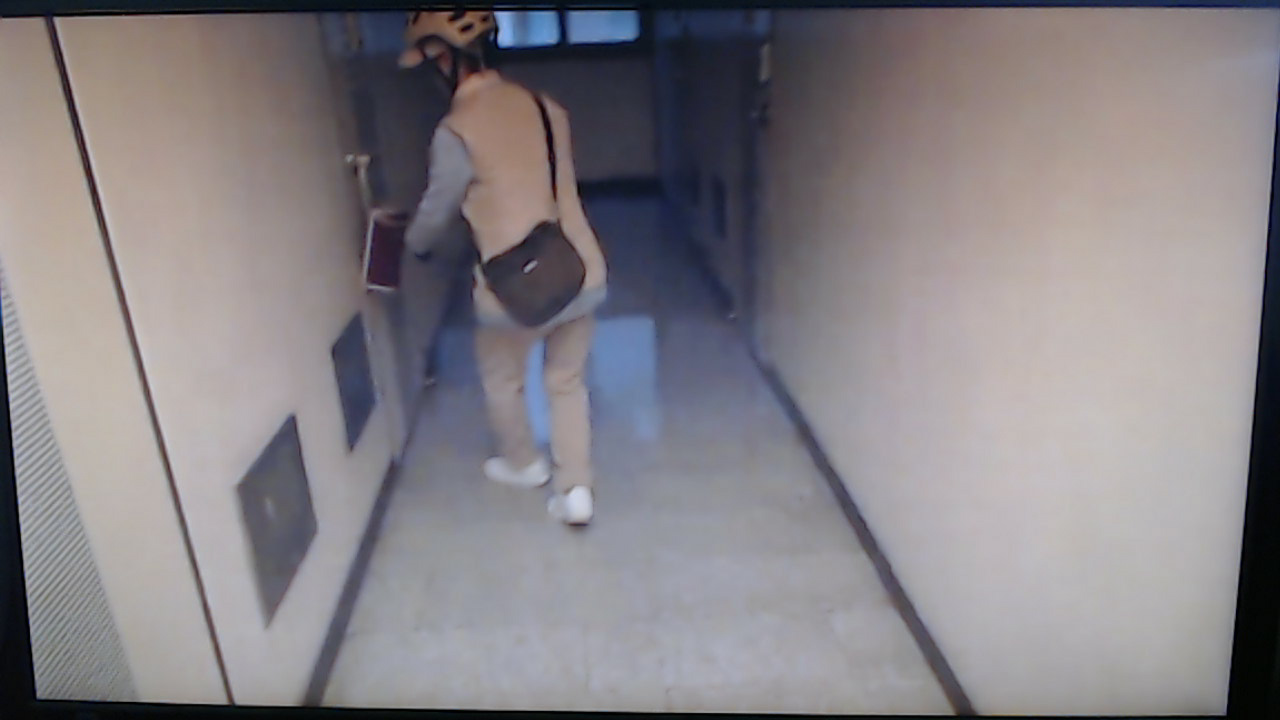Yakurut: (400, 15, 619, 547)
